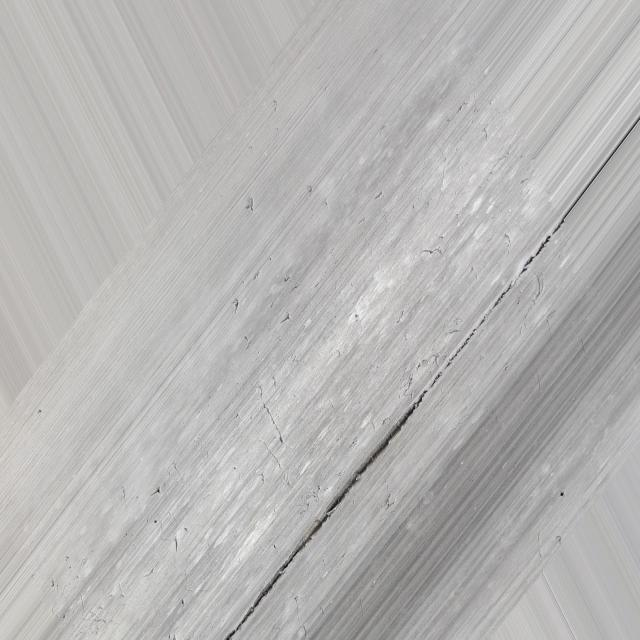Puncture: (278, 306, 296, 330), (243, 191, 258, 214), (230, 295, 243, 314), (149, 517, 162, 529), (150, 487, 160, 496), (560, 492, 564, 496)
Tear: (226, 218, 566, 640)
